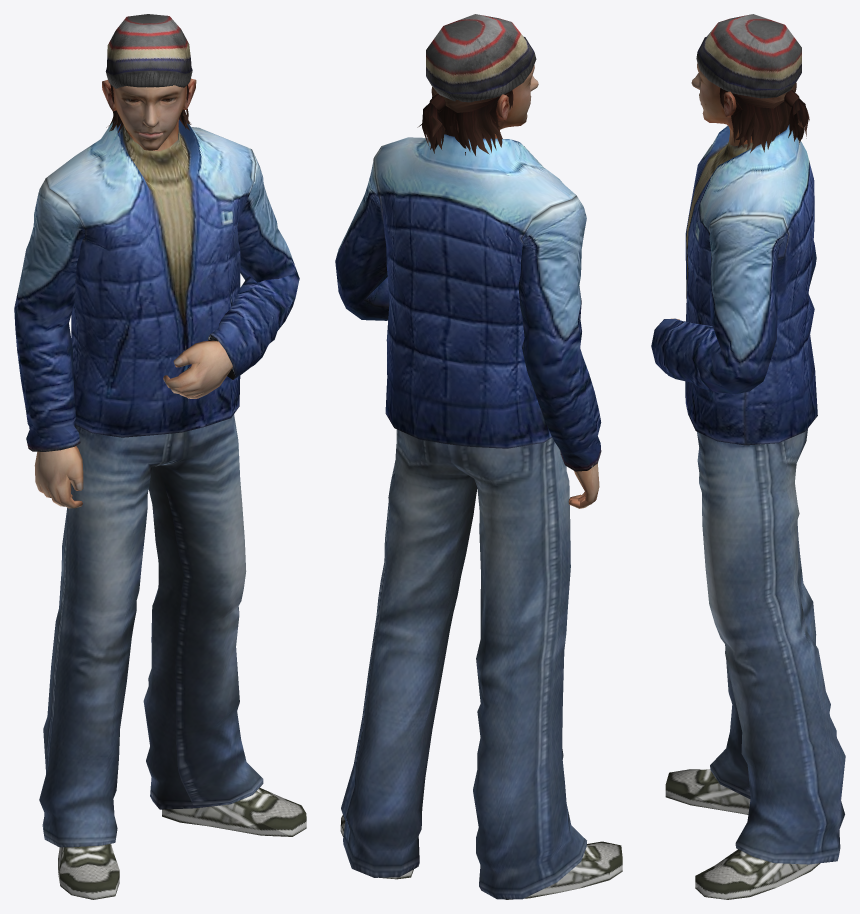
Rendered from sweethome3d-reallusion-male.glb.
3 renders of one model, left to right at view 1: azimuth 30°, elevation 25°; view 2: azimuth 150°, elevation 25°; view 3: azimuth 270°, elevation 25°, orthographic. The views are drawn at different scales.
Parts seen in each view (by area): view 1: 1, 4, 27, 2, 5, 6, 7, 9; view 2: 4, 1, 27, 6, 17, 2, 9, 21, 12, 10; view 3: 4, 1, 27, 5, 6, 2, 19, 12, 21, 10.
Boxes of the visible parts, left/top/right/bottom form: 1: left=14, top=119, right=299, bottom=451; 4: left=39, top=414, right=263, bottom=847; 27: left=105, top=14, right=192, bottom=88; 2: left=102, top=78, right=196, bottom=151; 5: left=162, top=788, right=306, bottom=836; 6: left=58, top=844, right=119, bottom=899; 7: left=163, top=340, right=232, bottom=398; 9: left=34, top=446, right=83, bottom=508; 4: left=341, top=429, right=586, bottom=899; 1: left=335, top=134, right=601, bottom=471; 27: left=426, top=14, right=536, bottom=102; 6: left=505, top=841, right=622, bottom=899; 17: left=443, top=96, right=500, bottom=155; 2: left=484, top=65, right=538, bottom=138; 9: left=568, top=463, right=599, bottom=508; 21: left=441, top=108, right=502, bottom=154; 12: left=431, top=87, right=513, bottom=112; 10: left=417, top=94, right=445, bottom=149; 4: left=697, top=428, right=845, bottom=864; 1: left=651, top=124, right=817, bottom=445; 27: left=696, top=14, right=801, bottom=98; 5: left=695, top=849, right=819, bottom=899; 6: left=665, top=769, right=750, bottom=814; 2: left=691, top=62, right=779, bottom=146; 19: left=732, top=94, right=786, bottom=152; 12: left=719, top=83, right=796, bottom=108; 21: left=739, top=103, right=789, bottom=152; 10: left=784, top=90, right=809, bottom=141.
Size of the model in its own units: 61.02 by 186 by 40.36.
5 materials, 4 textured.
